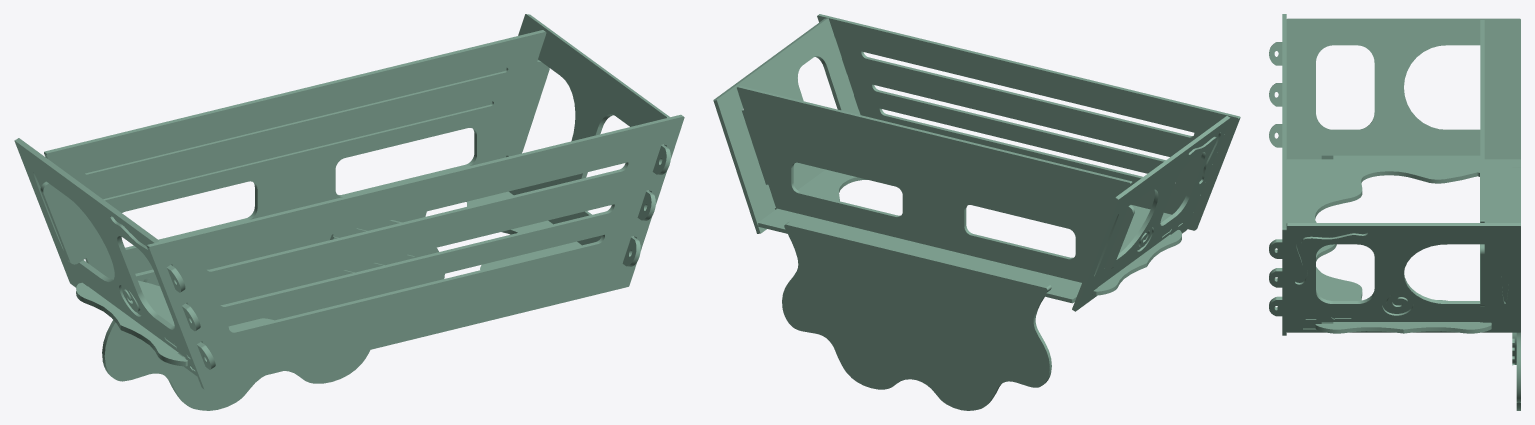
The model's file is theatre-built.glb.
The picture shows the model from 3 angles, left to right: view 1: azimuth 30°, elevation 25°; view 2: azimuth 150°, elevation 25°; view 3: azimuth 270°, elevation 25°; orthographic projection. The views are drawn at different scales.
Parts seen in each view (by area): view 1: Body1.001, Body1.002, Body1.006, Body1.003, Body1.005, Body1, Body1.007; view 2: Body1.002, Body1.003, Body1.001, Body1.005, Body1.006, Body1; view 3: Body1.006, Body1.005, Body1, Body1.001, Body1.002, Body1.003.
Boxes of the visible parts, box(x1,y1,x2,y2) form: Body1.001: box(146, 114, 684, 389); Body1.002: box(40, 30, 549, 279); Body1.006: box(14, 138, 215, 375); Body1.003: box(102, 211, 444, 410); Body1.005: box(506, 14, 670, 266); Body1: box(76, 191, 581, 366); Body1.007: box(328, 220, 414, 290); Body1.002: box(737, 85, 1134, 282); Body1.003: box(782, 221, 1051, 410); Body1.001: box(817, 14, 1240, 230); Body1.005: box(713, 18, 860, 233); Body1.006: box(1072, 116, 1230, 311); Body1: box(758, 169, 1181, 303); Body1.006: box(1269, 18, 1520, 159); Body1.005: box(1269, 223, 1520, 332); Body1: box(1286, 155, 1520, 333); Body1.001: box(1282, 14, 1286, 335); Body1.002: box(1480, 20, 1484, 306); Body1.003: box(1512, 167, 1520, 410).
Size of the model in its own units: 0.8699 by 0.4963 by 0.4301.
